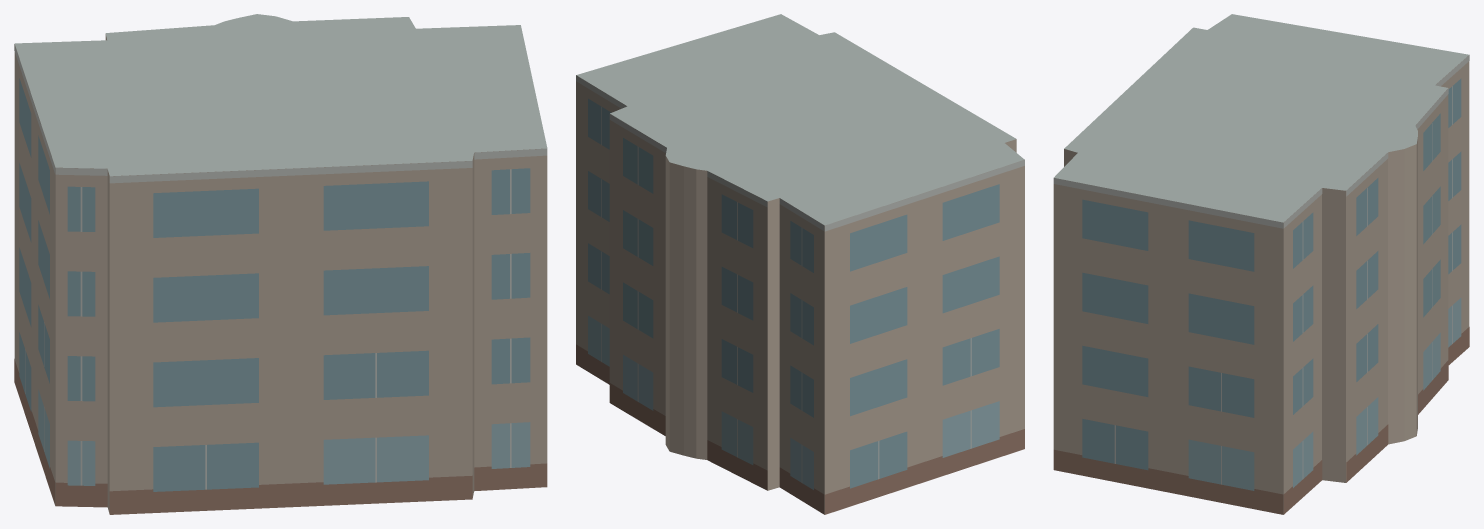
Rendered from survey-upis-32723288.glb.
The picture shows the model from 3 angles, left to right: view 1: azimuth 30°, elevation 25°; view 2: azimuth 150°, elevation 25°; view 3: azimuth 270°, elevation 25°; orthographic projection. The views are drawn at different scales.
Visible parts, largest first — view 1: survey-upis-32723288.tmp; view 2: survey-upis-32723288.tmp; view 3: survey-upis-32723288.tmp.
Boxes of the visible parts, left/top/right/bottom form: survey-upis-32723288.tmp: left=14, top=14, right=547, bottom=514; survey-upis-32723288.tmp: left=576, top=14, right=1024, bottom=514; survey-upis-32723288.tmp: left=1053, top=14, right=1469, bottom=514.
Bounding box in the file's own units: 17.77 × 11.6 × 14.97.
